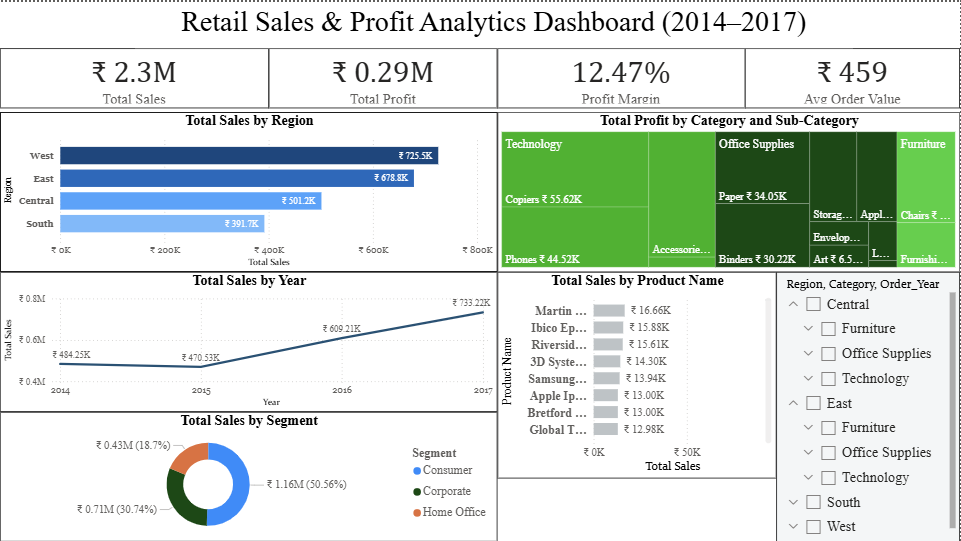

The dashboard page shown, as its layout file describes it:
{"tool":"powerbi","page":{"name":"Page 1","canvas":[1280,720],"ordinal":0},"visuals":[{"type":"clusteredBarChart","fields":{"Y":["Superstore.Total Sales"],"Category":["Superstore.Region"]},"box":[0,146.7,663.3,213.3],"z":0},{"type":"treemap","fields":{"Group":["Superstore.Category"],"Details":["Superstore.Sub-Category"],"Values":["Superstore.Total Profit"]},"box":[663.3,146.7,616.7,213.3],"z":1000},{"type":"card","fields":{"Values":["Superstore.Total Sales"]},"box":[0,61,358.3,80],"z":2000},{"type":"card","fields":{"Values":["Superstore.Total Profit"]},"box":[358.3,61,305,80],"z":3000},{"type":"card","fields":{"Values":["Superstore.Profit Margin"]},"box":[663.3,61,330,80],"z":4000},{"type":"card","fields":{"Values":["Superstore.Avg Order Value"]},"box":[993.3,61,286.7,80],"z":5000},{"type":"lineChart","fields":{"Category":["Superstore.Order Date.Variation.Date Hierarchy.Year","Superstore.Order Date.Variation.Date Hierarchy.Quarter","Superstore.Order Date.Variation.Date Hierarchy.Month","Superstore.Order Date.Variation.Date Hierarchy.Day"],"Y":["Superstore.Total Sales"]},"box":[0,360,663.3,186.7],"z":6000},{"type":"barChart","fields":{"Category":["Superstore.Product Name"],"Y":["Superstore.Total Sales"]},"box":[663.3,360,371.7,275],"z":7000},{"type":"donutChart","fields":{"Category":["Superstore.Segment"],"Y":["Superstore.Total Sales"]},"box":[0,547.1,662.9,172.9],"z":8000},{"type":"slicer","fields":{"Values":["Superstore.Region","Superstore.Category","Superstore.Order_Year"]},"box":[1035,360,245,360],"z":9000},{"type":"textbox","box":[180,0,956.7,61.7],"z":10000}]}

Visuals, with their boxes in screenshot pixels (x1, y1, x2, y2), scaled from the page's 1280x720 canvas onto the 961x541 screenshot:
clusteredBarChart - Superstore.Total Sales x Superstore.Region: box(0, 110, 498, 270)
treemap - Superstore.Category x Superstore.Sub-Category: box(498, 110, 960, 270)
card - Superstore.Total Sales: box(0, 46, 269, 106)
card - Superstore.Total Profit: box(269, 46, 498, 106)
card - Superstore.Profit Margin: box(498, 46, 746, 106)
card - Superstore.Avg Order Value: box(746, 46, 960, 106)
lineChart - Superstore.Order Date.Variation.Date Hierarchy.Year x Superstore.Order Date.Variation.Date Hierarchy.Quarter: box(0, 270, 498, 411)
barChart - Superstore.Product Name x Superstore.Total Sales: box(498, 270, 777, 477)
donutChart - Superstore.Segment x Superstore.Total Sales: box(0, 411, 498, 540)
slicer - Superstore.Region x Superstore.Category: box(777, 270, 960, 540)
textbox: box(135, 0, 853, 46)
